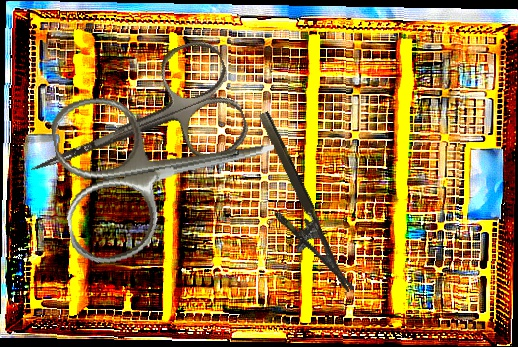Iris Scissors: (47, 67, 289, 269), (9, 33, 255, 223)
Needle Holder: (234, 109, 354, 307)
